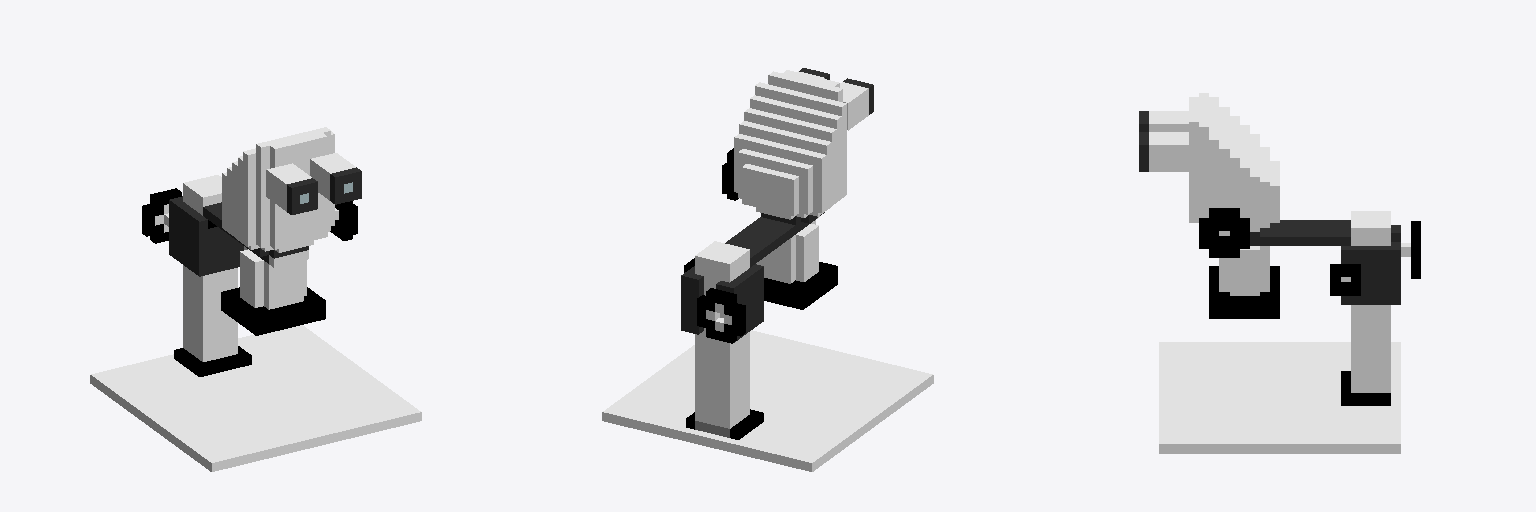
3 views of the same model, side by side, from view 1: azimuth 30°, elevation 25°; view 2: azimuth 150°, elevation 25°; view 3: azimuth 270°, elevation 25° (orthographic).
Bounding box in the file's own units: 24 × 32 × 28.
Materials: 1 (1 with a texture image).